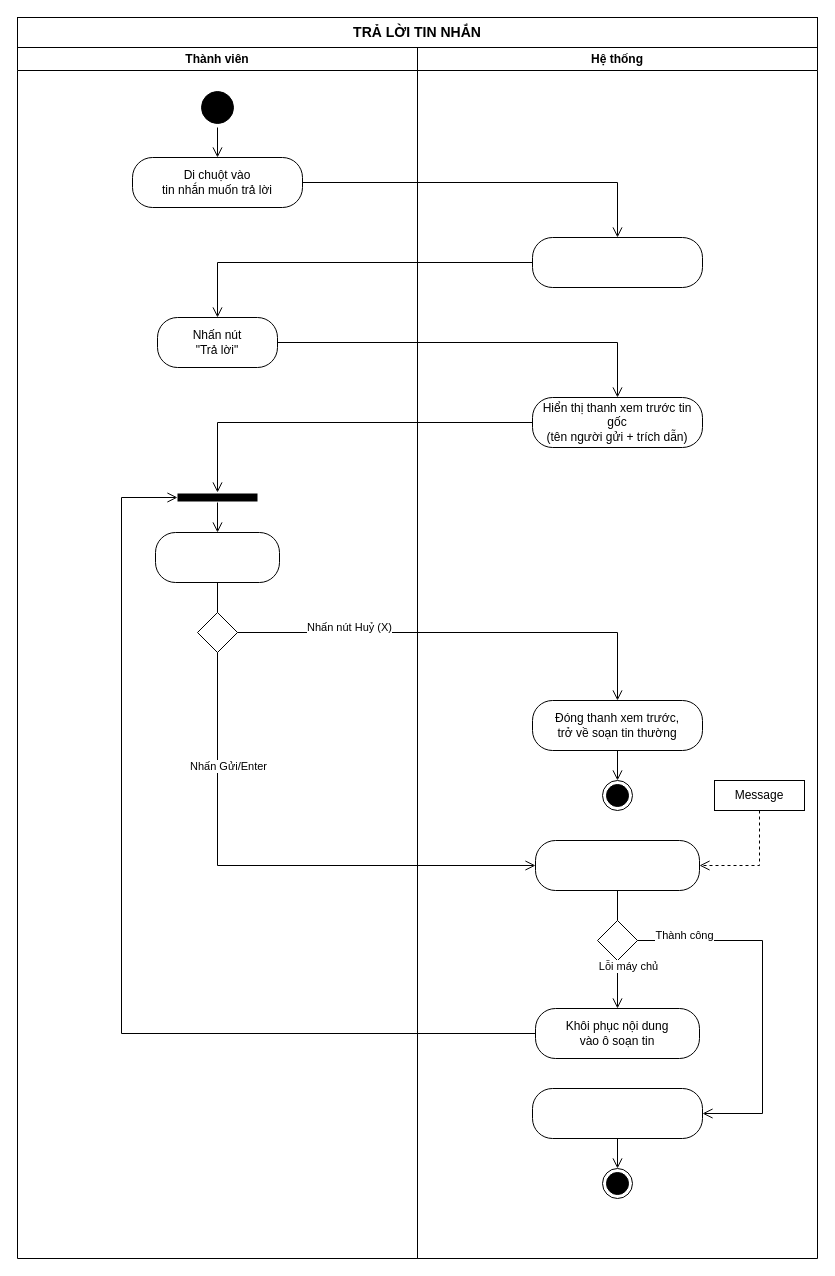
The diagram is 835 pixels wide and 1276 high, and some of its shapes have lost their labels. The shapes that lost their labels are listed below. From the top down, each one's box as (x1, y1, x2, y2) in pixels, then its label:
(532, 236, 702, 288): Hiển thị nút "Trả lời" cạnh bubble
(154, 532, 280, 582): Nhập nội dung trả lời
(534, 840, 700, 890): Gửi tin nhắn kèm tham chiếu tin gốc
(532, 1088, 702, 1138): Hiển thị tin nhắn trả lời kèm trích dẫn tin gốc
